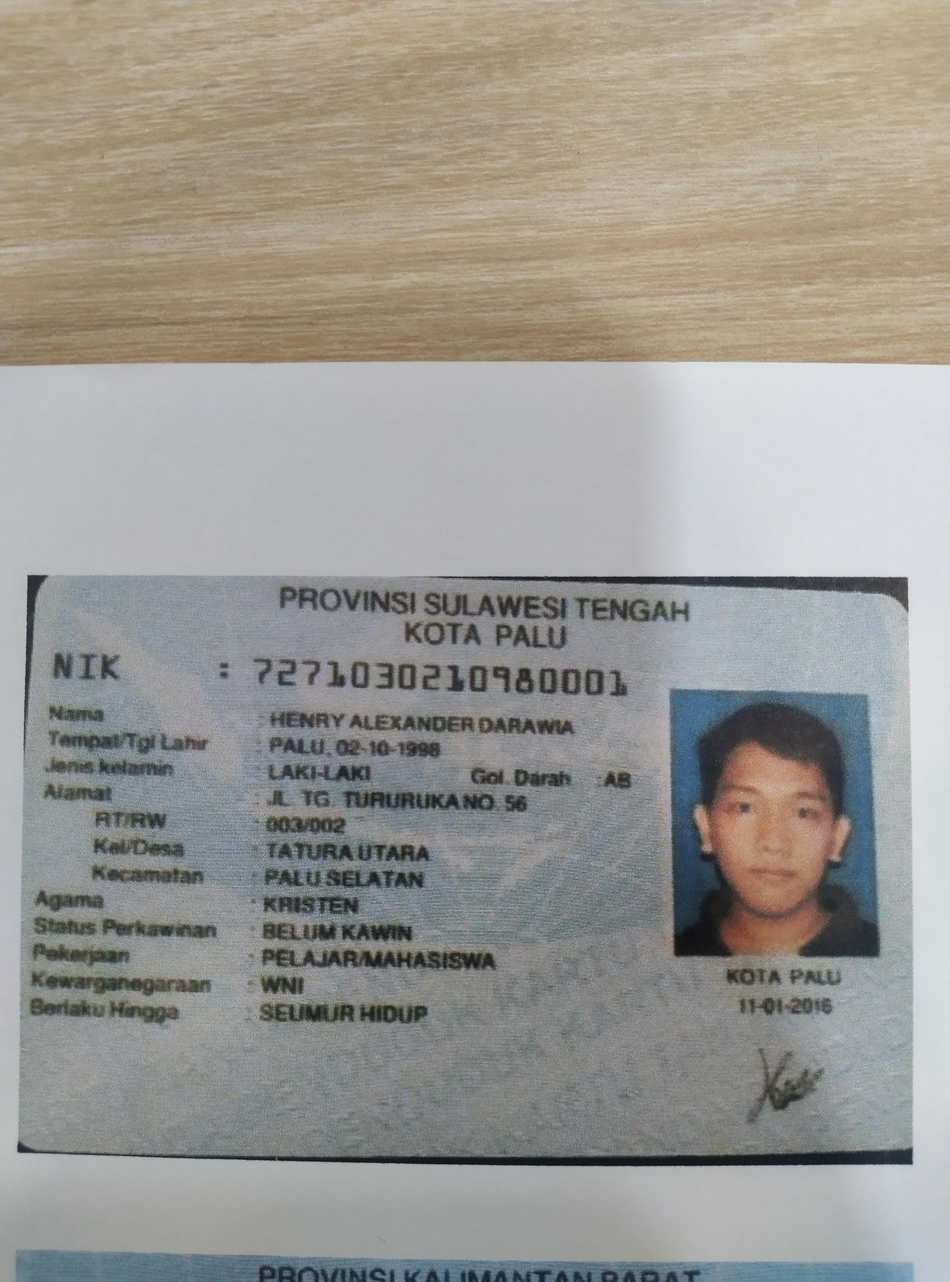ktp: (17, 577, 911, 1154)
